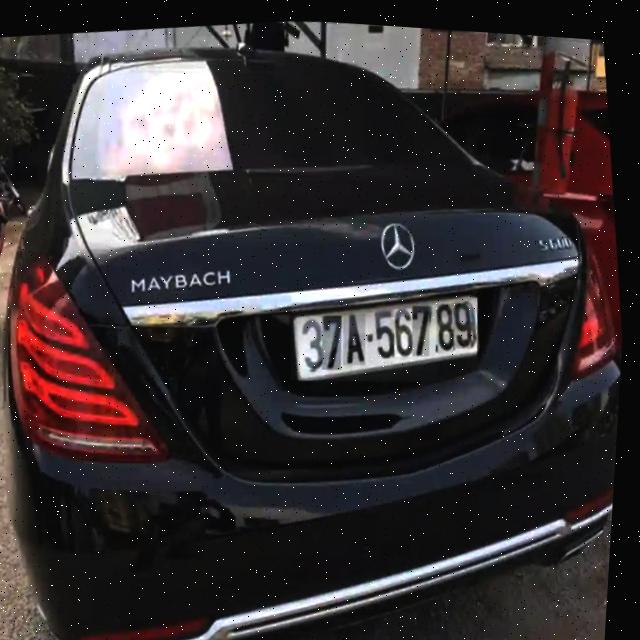car: (0, 0, 640, 640)
plate: (282, 273, 493, 396)
